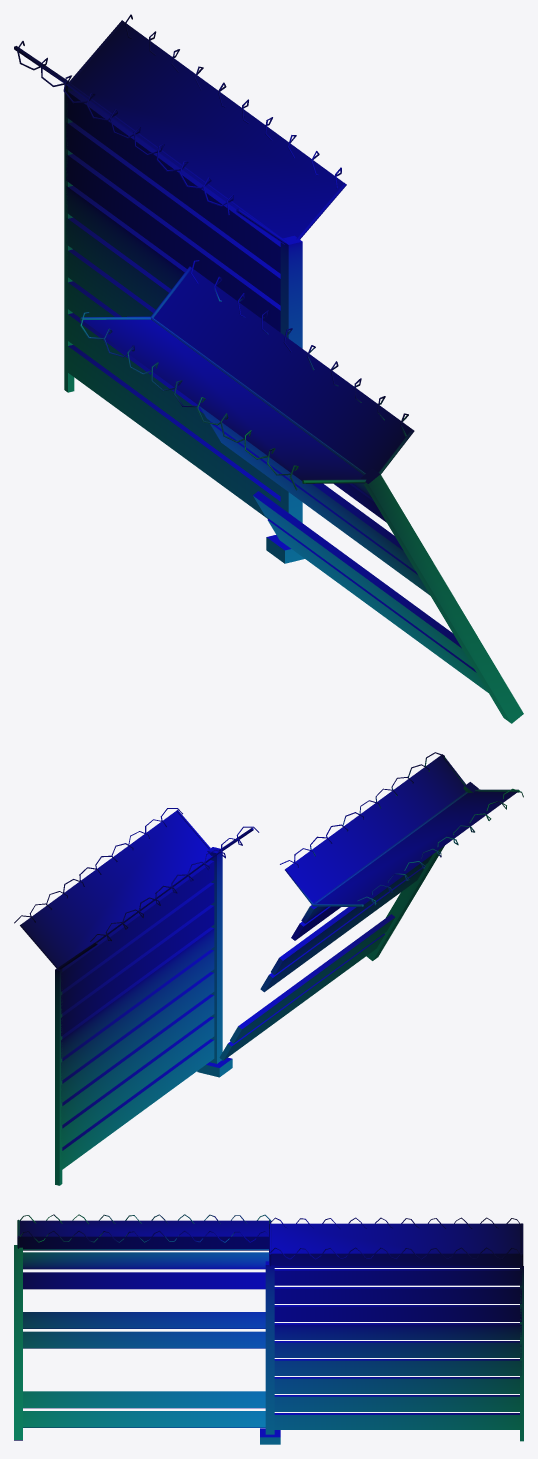
The model's file is razorwirefencediag_damaged.glb.
The picture shows the model from 3 angles, top to bottom: view 1: azimuth 30°, elevation 25°; view 2: azimuth 150°, elevation 25°; view 3: azimuth 270°, elevation 25°; orthographic projection. The views are drawn at different scales.
Parts seen in each view (by area): view 1: lod0; view 2: lod0; view 3: lod0.
Part boxes in pixels (<box>): lod0: <box>14,14,523,723</box>; lod0: <box>14,752,523,1185</box>; lod0: <box>14,1214,523,1444</box>.
Size of what is drawn, in the model's own units: 4.46 by 5.55 by 12.26.
